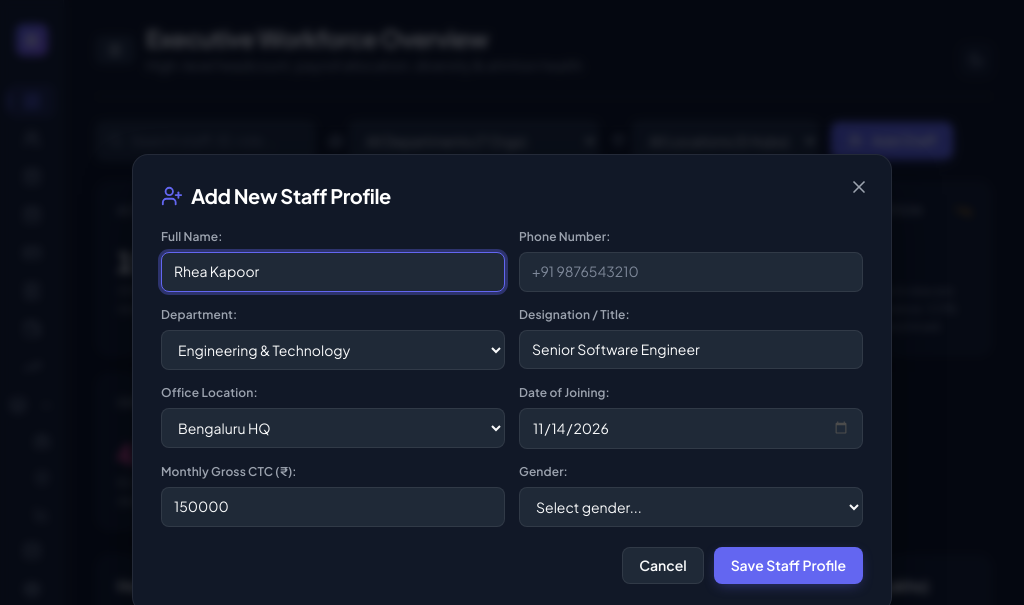
Test: App destructive and confirmational actions › does not reset when the question is refused
Earlier steps of the test are not shown.
Step 1. Select "Female" in the dropdown labelled "Gender:" → (691, 508), box [519, 488, 863, 528]
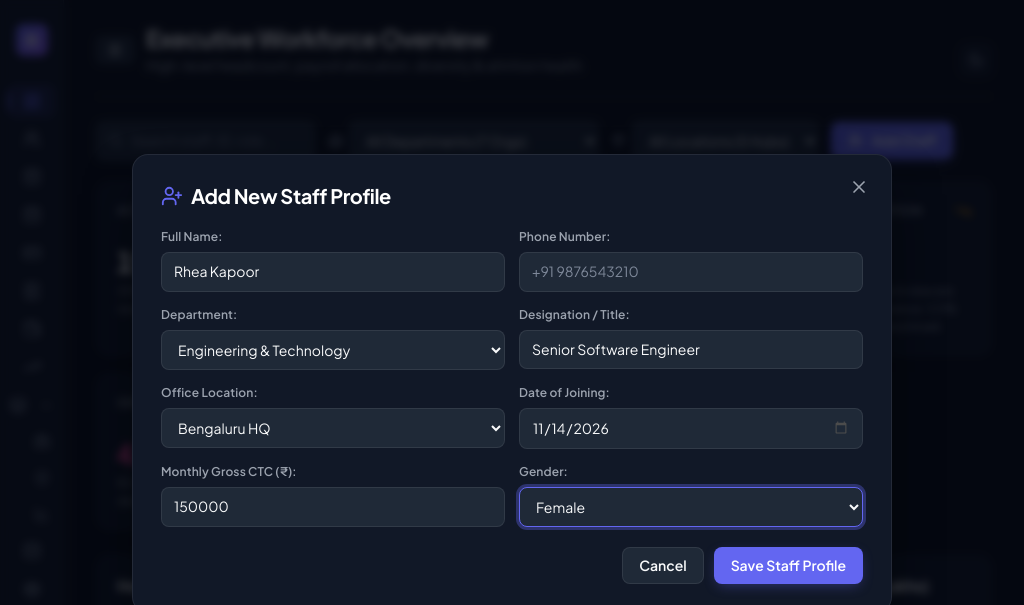
Step 2. Click the button "Save Staff Profile" → (788, 566), box [714, 548, 863, 584]
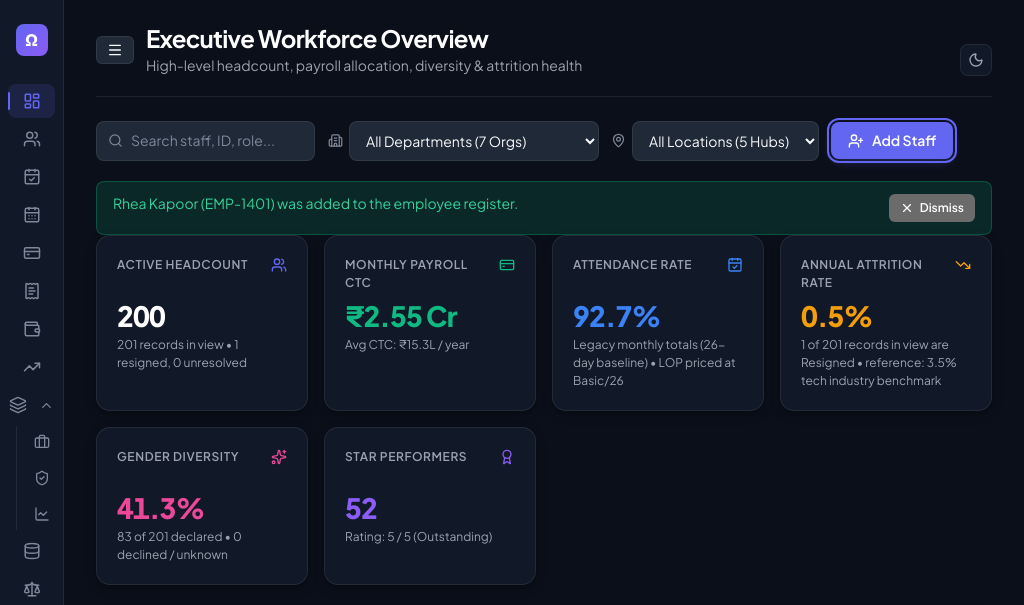
Result: the message "Rhea Kapoor (EMP-1401) was added to the employee register. Dismiss" is shown at [96, 181, 992, 235]
Step 3. Click the button with aria-label "Dismiss this message" → (932, 208), box [889, 194, 975, 222]
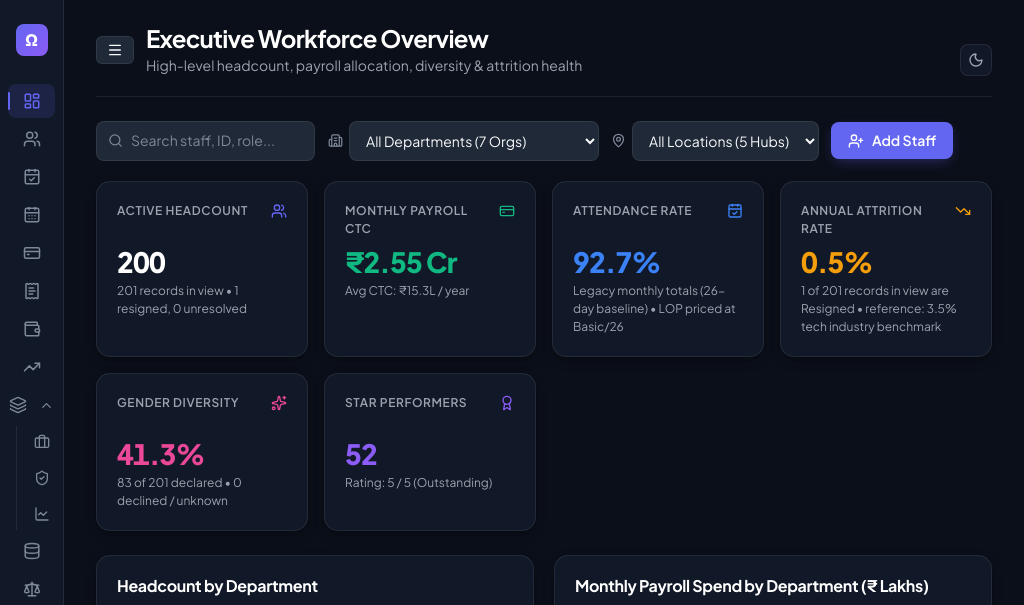
Step 4. Click the button named "Admin & Settings" → (32, 551), box [8, 534, 55, 568]
(page scrolled)
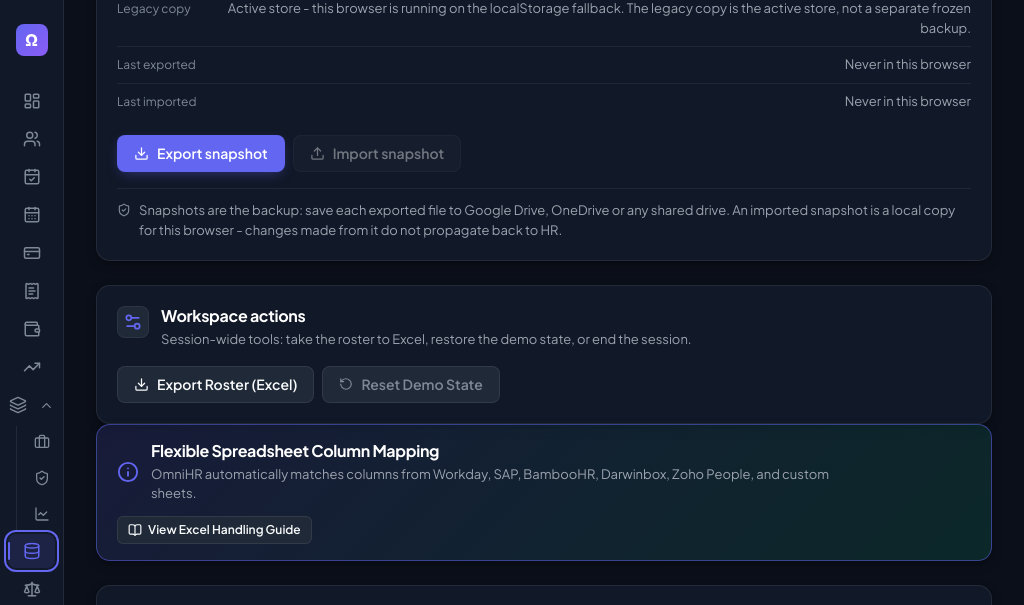
Step 5. Click the button "Reset Demo State" → (411, 384), box [322, 366, 500, 403]
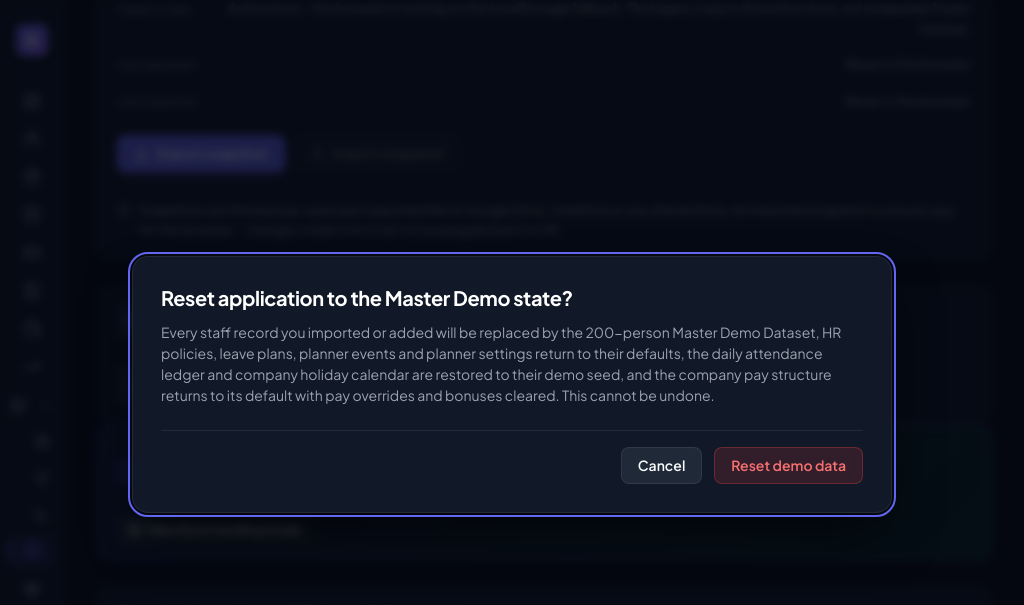
Step 6. Press Escape
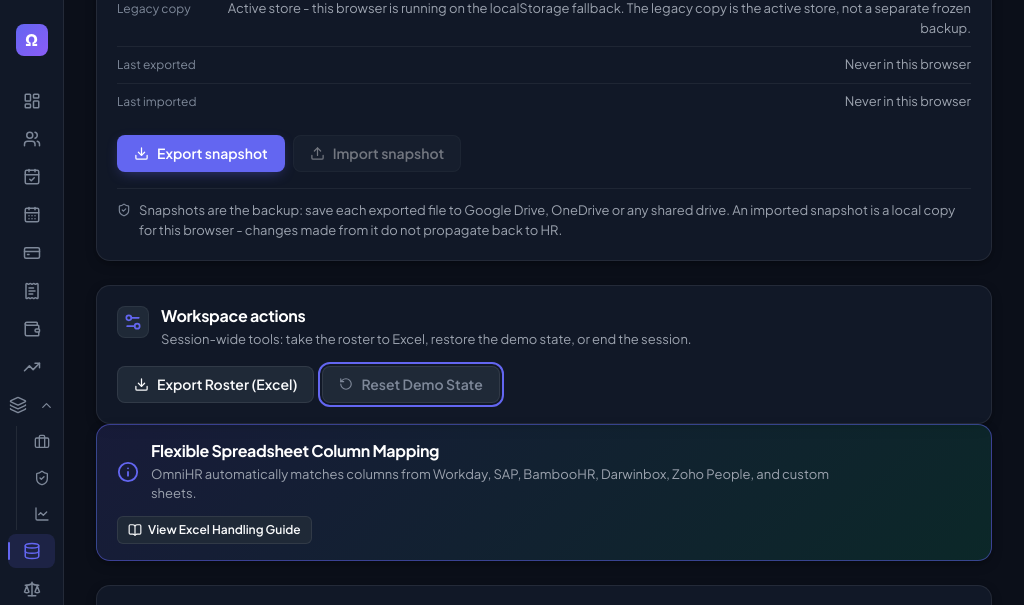
Result: the dialog is gone
